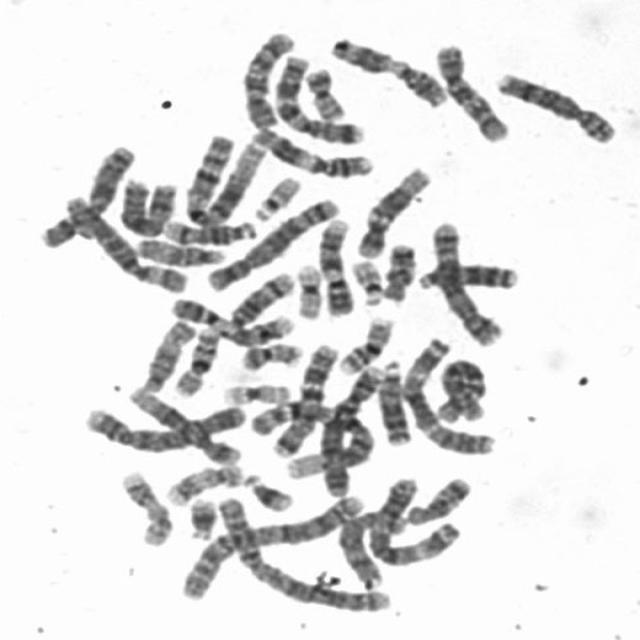A1: (245, 395, 378, 479), (177, 129, 270, 228)
A2: (175, 488, 375, 603), (207, 492, 391, 616)
A3: (398, 332, 498, 456), (364, 470, 466, 568)
B4: (304, 359, 388, 487), (78, 398, 248, 458)
B5: (202, 192, 343, 292), (427, 215, 507, 348)
C10: (428, 37, 514, 144), (236, 26, 297, 130)
C11: (325, 31, 453, 108), (248, 122, 376, 180)
C12: (120, 382, 242, 467), (351, 160, 433, 259)
C6: (57, 190, 192, 296), (432, 353, 492, 425)
C7: (268, 48, 368, 146), (267, 338, 343, 460)
C8: (490, 65, 620, 146), (331, 508, 411, 588)
C9: (164, 293, 298, 346), (312, 213, 356, 317)
D13: (373, 353, 415, 447), (410, 257, 520, 292)
D14: (223, 268, 298, 330), (160, 214, 261, 246)
D15: (132, 314, 198, 395), (129, 234, 228, 268)
E16: (333, 310, 398, 376), (170, 321, 224, 397)
E17: (114, 466, 176, 548), (161, 457, 246, 507)
E18: (403, 471, 475, 526), (377, 238, 417, 304)
F19: (217, 376, 294, 406), (291, 258, 326, 321)
F20: (300, 63, 350, 123), (235, 336, 305, 372)
G21: (240, 468, 298, 513), (182, 492, 219, 541)
G22: (247, 169, 304, 222), (346, 253, 386, 308)
X: (33, 139, 138, 250), (114, 174, 180, 238)
